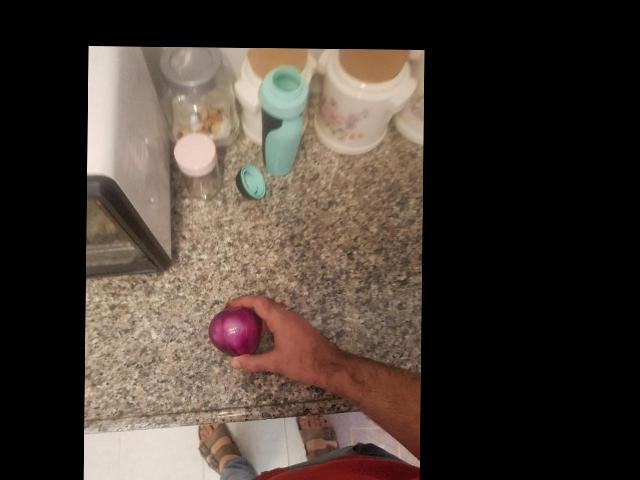onion: (211, 306, 269, 360)
